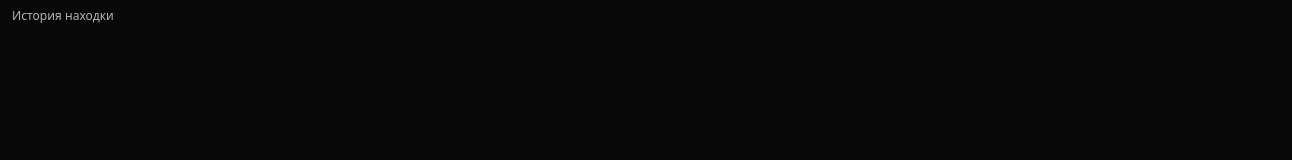
Test: optional finding history › keeps existing history optional without internal publication jargon
Expected: the text "fixture-only" is not shown
Click the button "История находки" at (63, 16), box [12, 8, 114, 24]
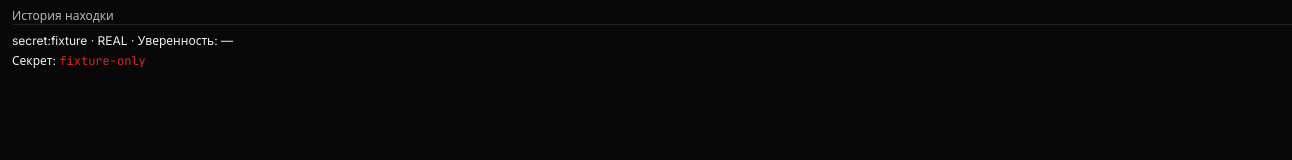
Now the text "fixture-only" is shown, box [59, 53, 146, 69]
